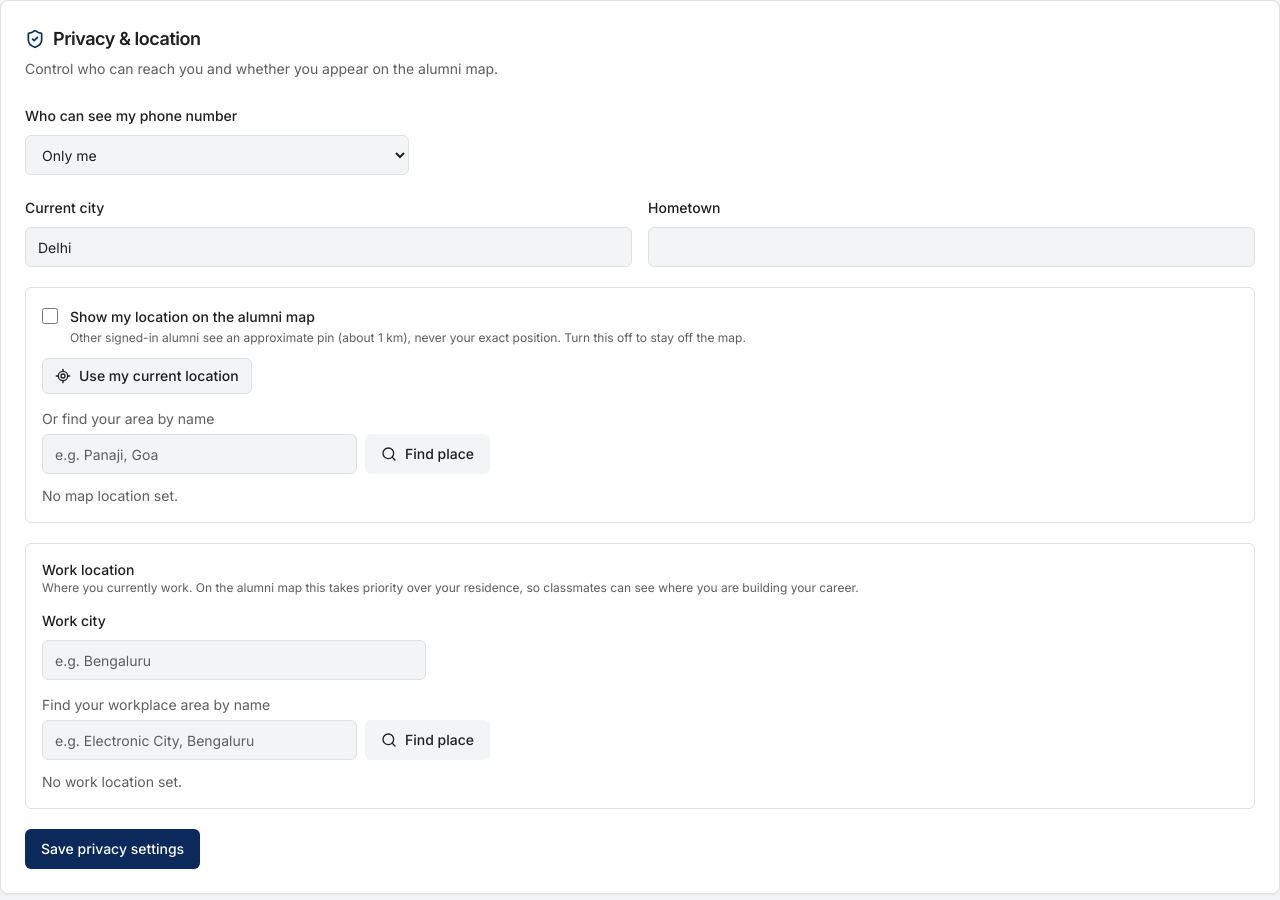
Test: <PrivacySection> › handles browsers without geolocation
This screenshot has width=1280, height=900.
Click the button "Use my current location" at (147,376), box 42,358 -> 252,394
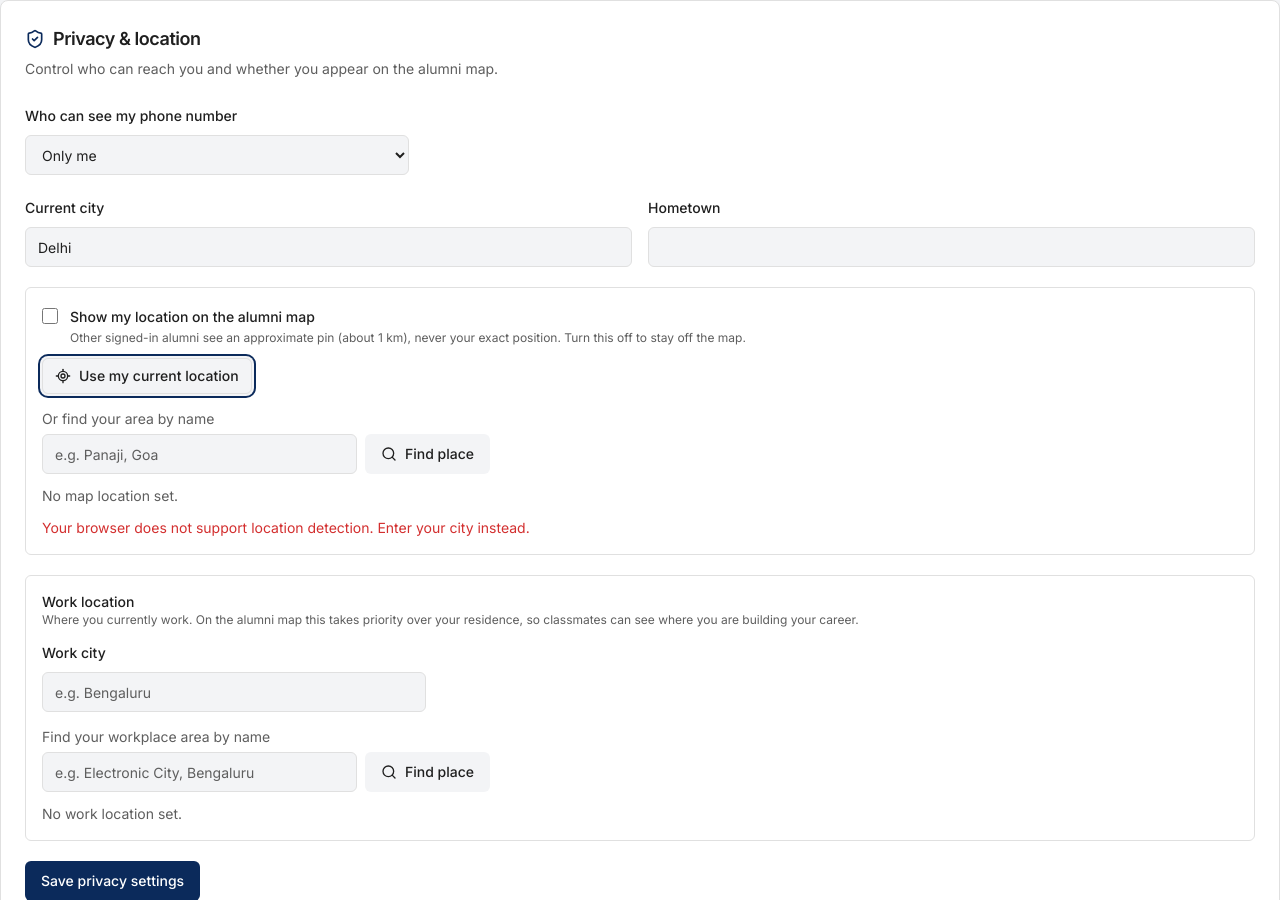
Expected: the message shows "does not support", 42,519 -> 530,536
